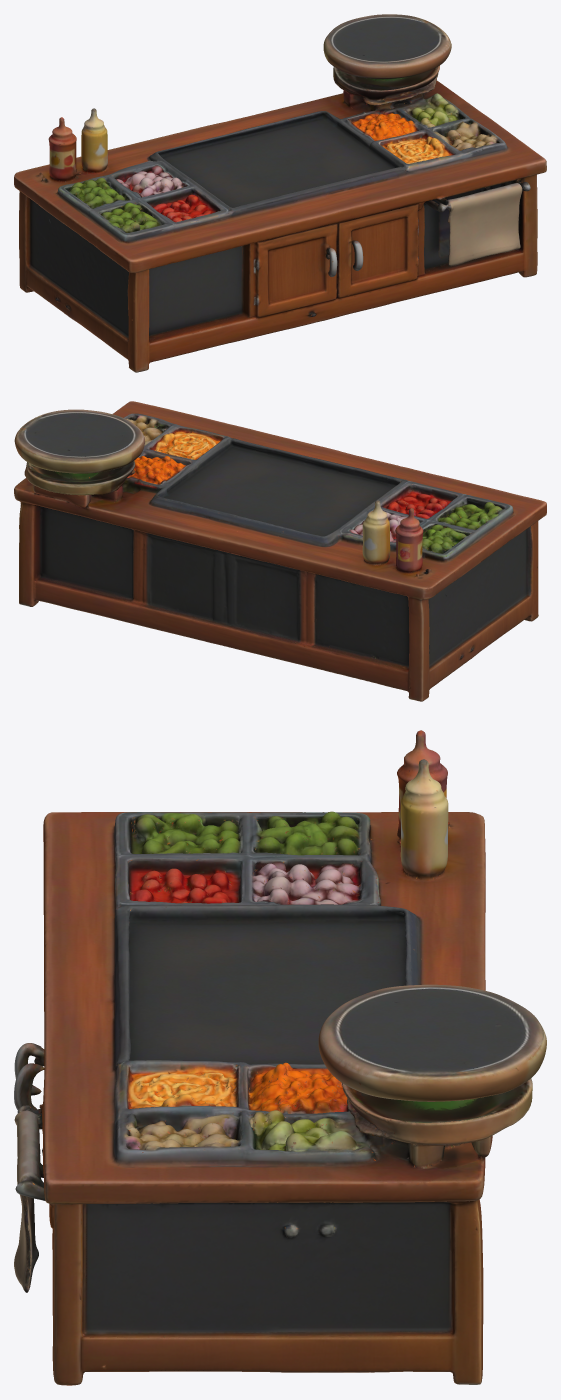
File: Meshy_AI_Sizzle_Station_0704141019_texture.fbx
3 renders of one model, top to bottom at view 1: azimuth 30°, elevation 25°; view 2: azimuth 150°, elevation 25°; view 3: azimuth 270°, elevation 25°, orthographic. The views are drawn at different scales.
Parts seen in each view (by area): view 1: Mesh_0; view 2: Mesh_0; view 3: Mesh_0.
Part boxes in pixels (x1,y1,x2,y2): Mesh_0: (14,14,546,372); Mesh_0: (14,401,546,701); Mesh_0: (14,730,546,1385).
Bounding box in the file's own units: 200 × 80.77 × 121.
1 material, 1 textured.
